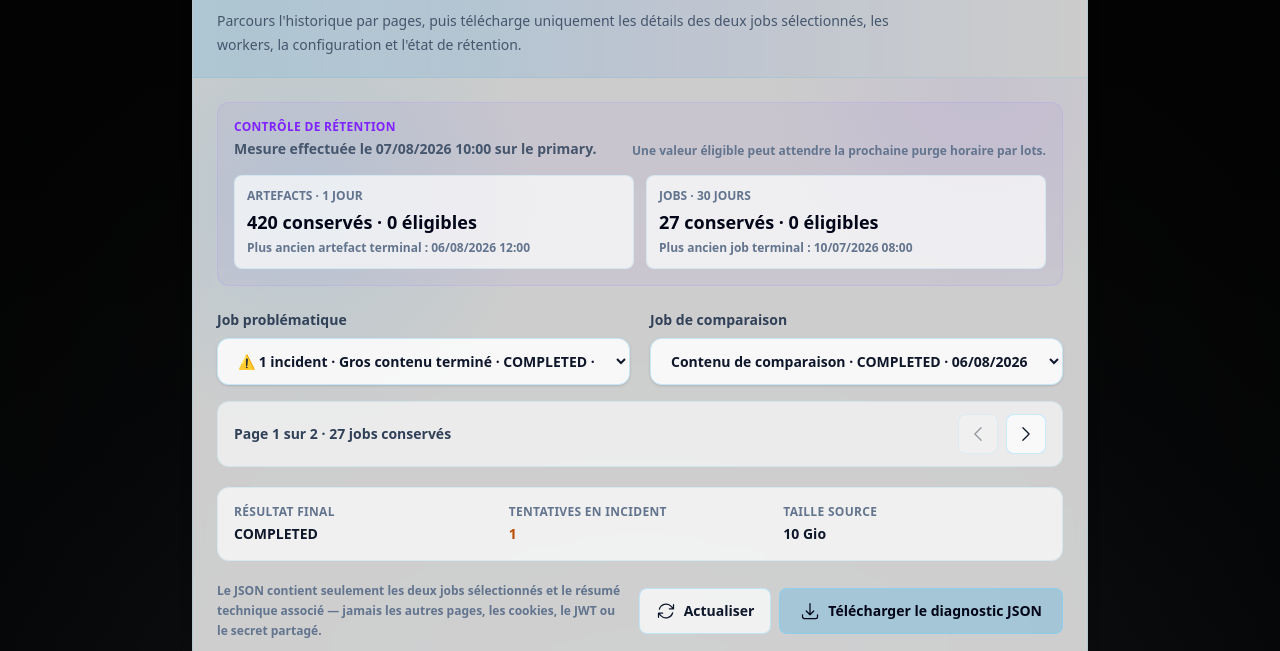
Test case: AdminDistributedEncodingDiagnostics › collecte les détails et déclenche le téléchargement JSON
(page scrolled)
Click the button "Télécharger le diagnostic JSON".
click(921, 611)  # box [779,588,1063,634]
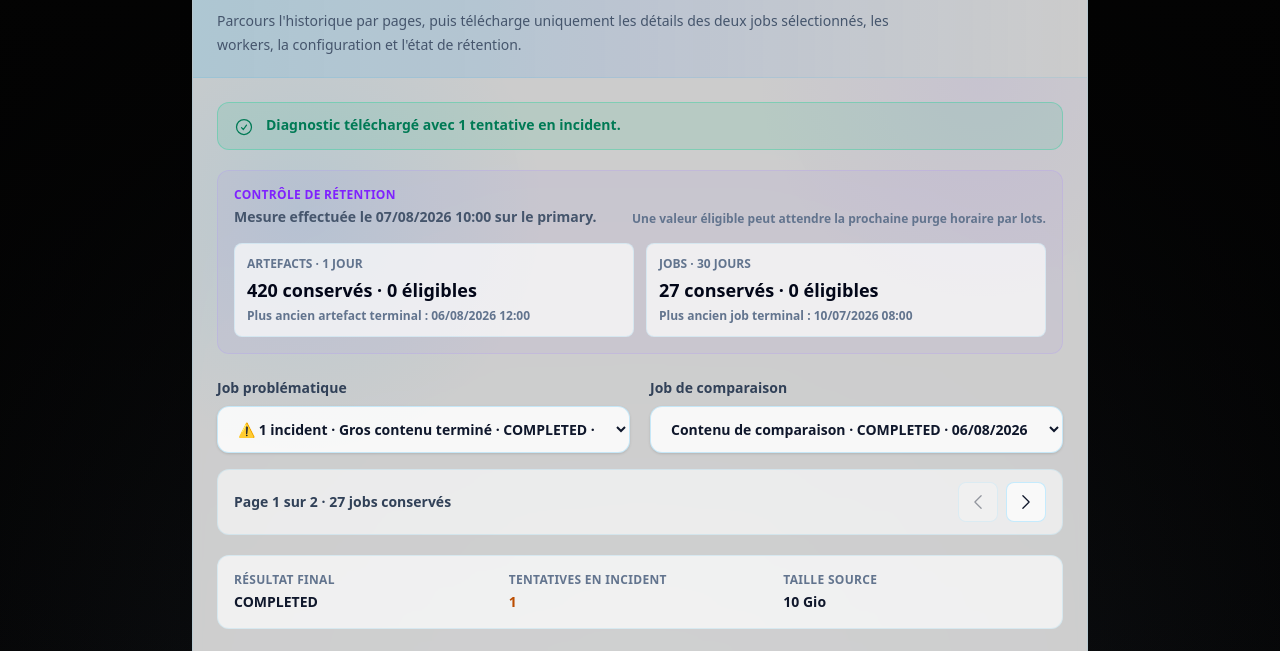
Check: the text "Diagnostic téléchargé avec 1 tentative en incident." is shown, box [266,115,621,135]
